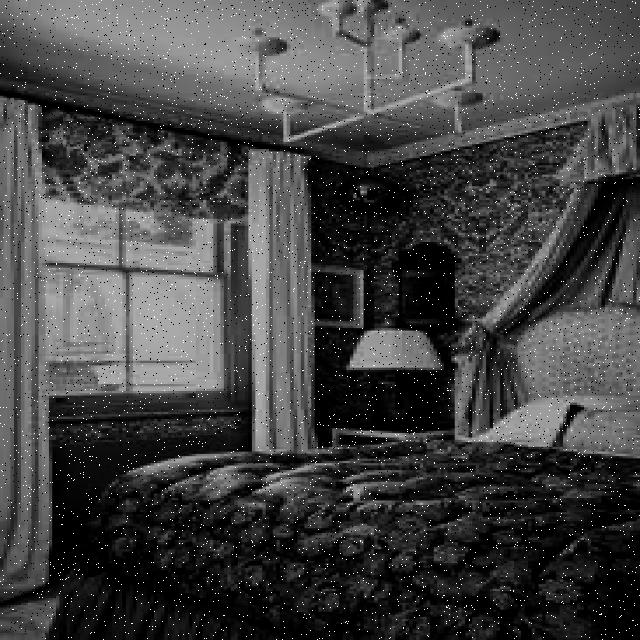bed: (46, 382, 632, 640)
